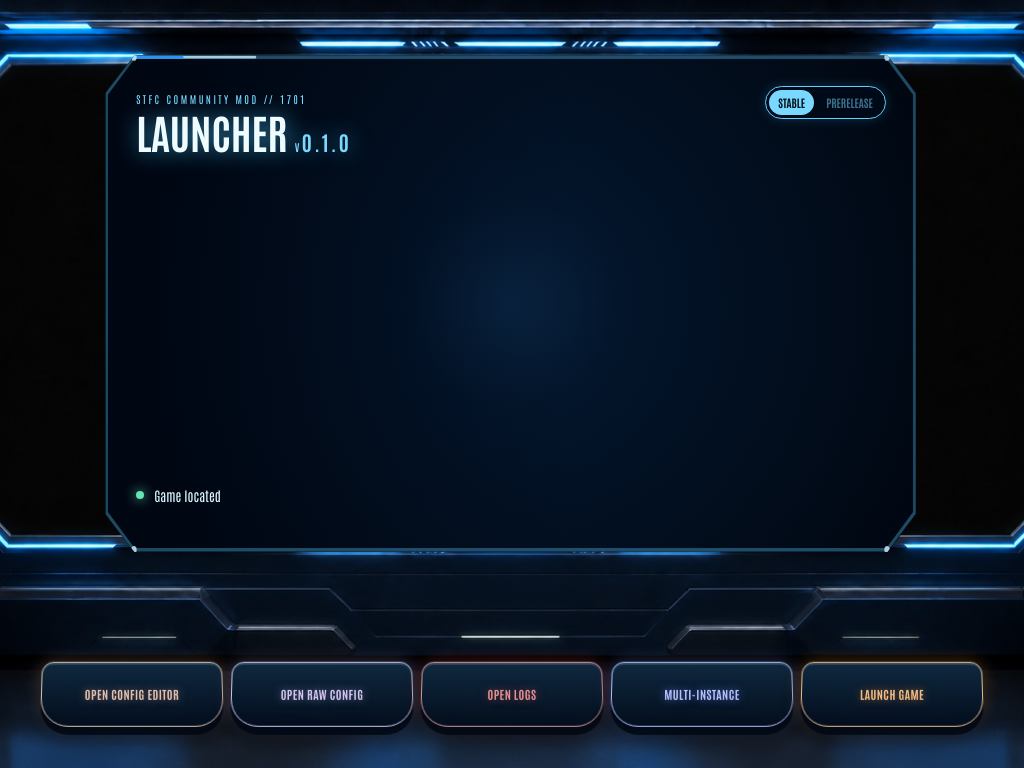
Scenario: MainLauncher › formats object-shaped launch errors
The width and height of the screenshot is (1024, 768).
Click the button "Launch Game" at (892, 694), box [800, 662, 984, 726]
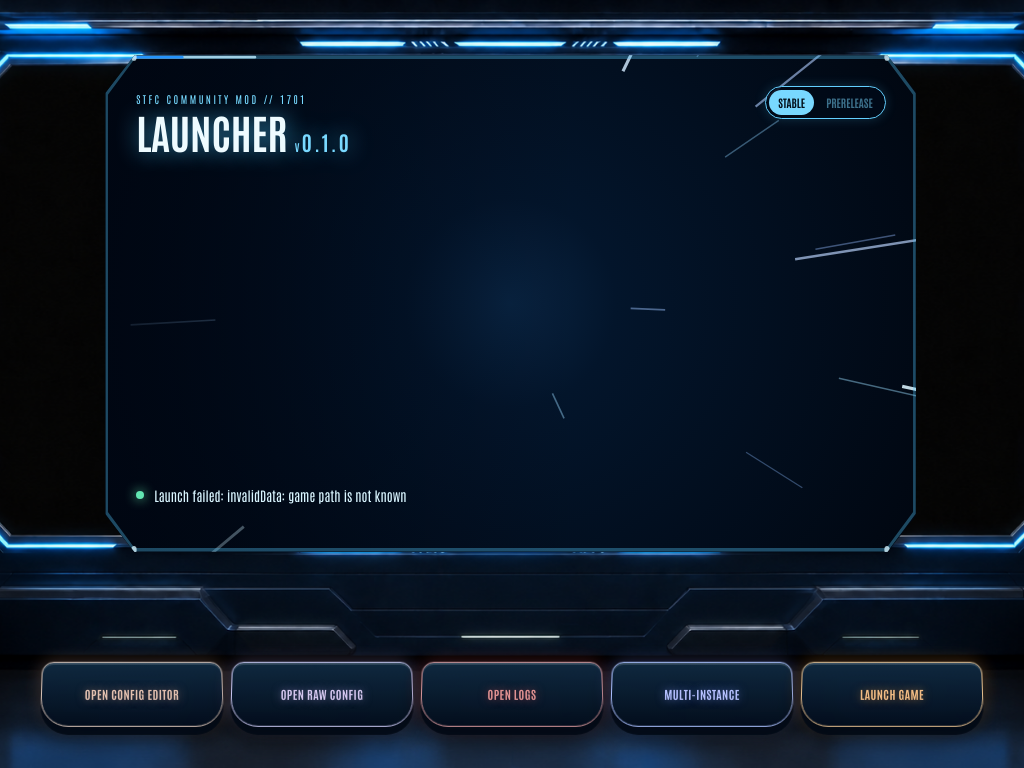
Expected: the text "Launch failed: invalidData: game path is not known" is shown, [154, 487, 406, 504]
